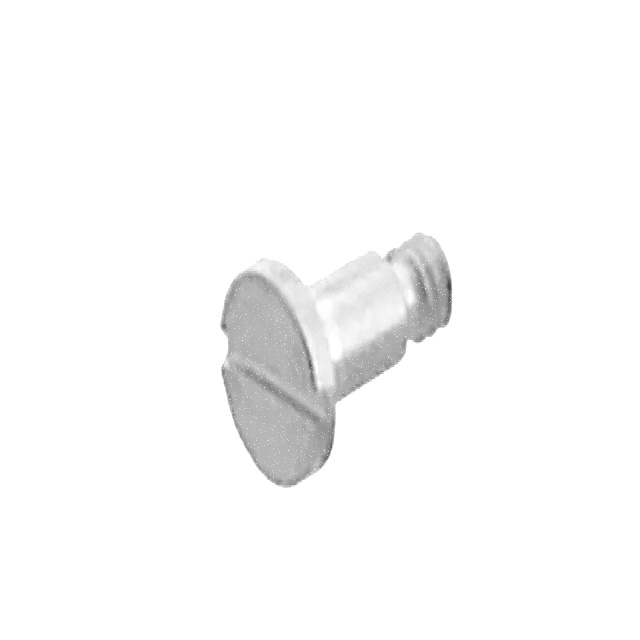duz: (218, 256, 338, 490)
